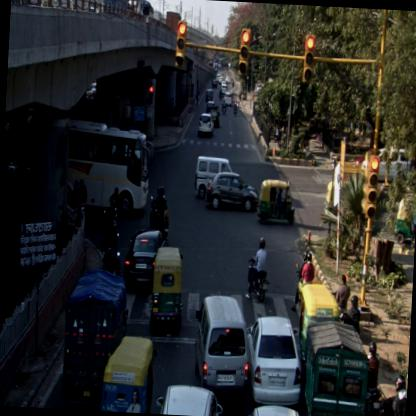bus: (64, 120, 156, 218)
car: (190, 292, 254, 388), (240, 313, 304, 407), (123, 224, 168, 292), (203, 170, 261, 214), (153, 385, 226, 415), (195, 157, 236, 200), (196, 113, 215, 139), (206, 108, 221, 126), (204, 89, 214, 103), (223, 92, 232, 106)
motorcycle: (243, 237, 270, 304), (362, 340, 385, 415), (290, 252, 314, 314), (146, 186, 170, 234), (220, 100, 228, 113), (233, 101, 236, 116)
truck: (60, 264, 128, 410), (300, 321, 371, 415)
